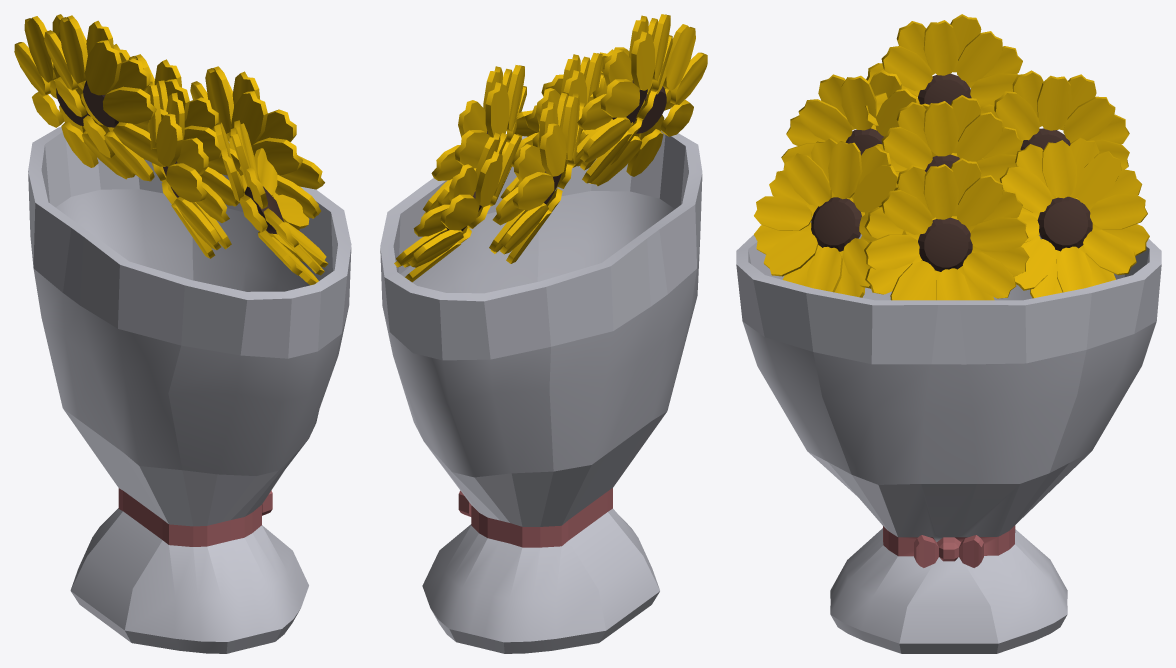
The model's file is sunflower.fbx.
3 views of the same model, side by side, from view 1: azimuth 30°, elevation 25°; view 2: azimuth 150°, elevation 25°; view 3: azimuth 270°, elevation 25° (orthographic). The views are drawn at different scales.
Visible parts, largest first — view 1: pCube1, pCube21; view 2: pCube1, pCube21; view 3: pCube1, pCube21.
Boxes of the visible parts, x1,y1,x2,y2 form: pCube1: (28,127,351,653); pCube21: (14,14,328,285); pCube1: (380,131,702,653); pCube21: (394,14,707,282); pCube1: (736,221,1161,653); pCube21: (754,14,1149,300).
Size of the model in its own units: 1.01 by 2.51 by 1.75.
